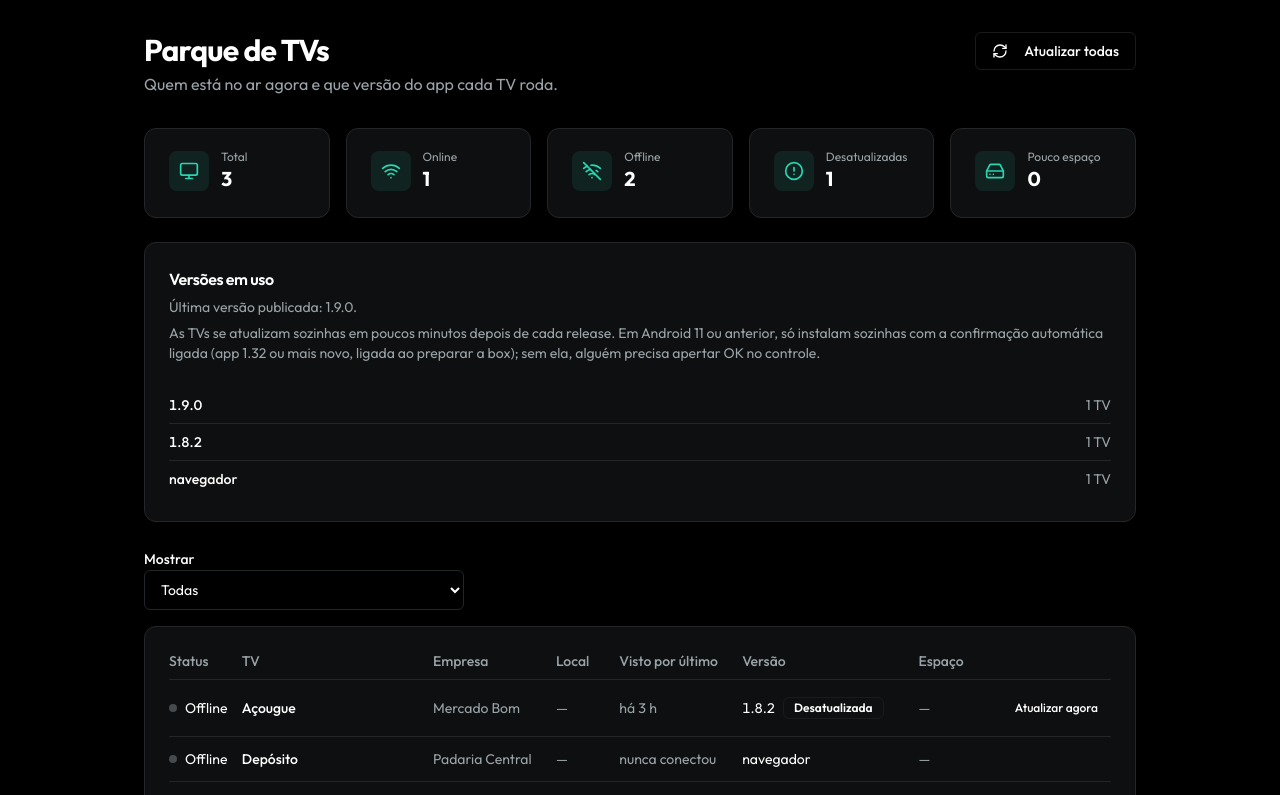
Parque de TVs › "Atualizar agora" pede a atualização só daquela TV
Click the button "Atualizar agora" in the row of "Açougue" at {"x": 1056, "y": 708}, box [1002, 692, 1111, 724]
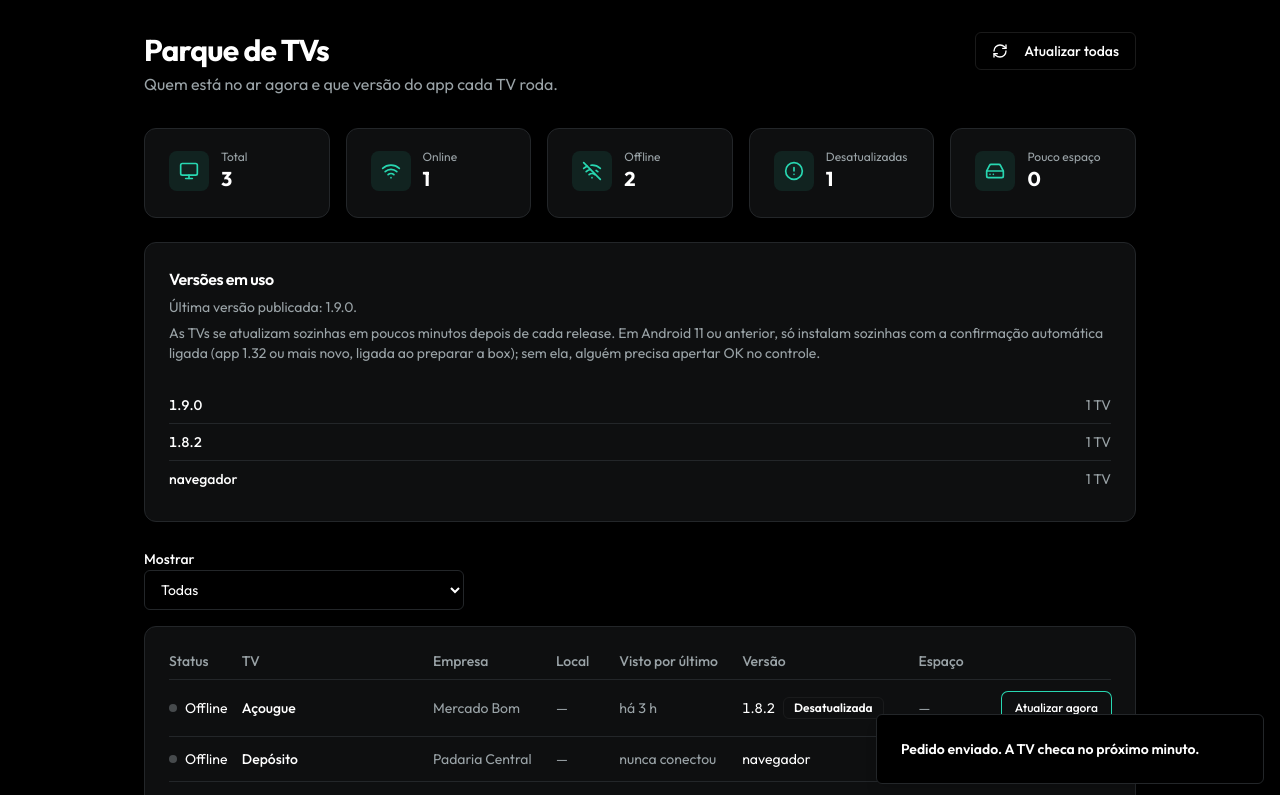
Check: the text "Pedido enviado. A TV checa no próximo minuto." is shown, box [901, 739, 1200, 759]
